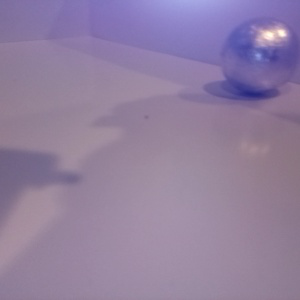alive_ball: (222, 18, 295, 93)
